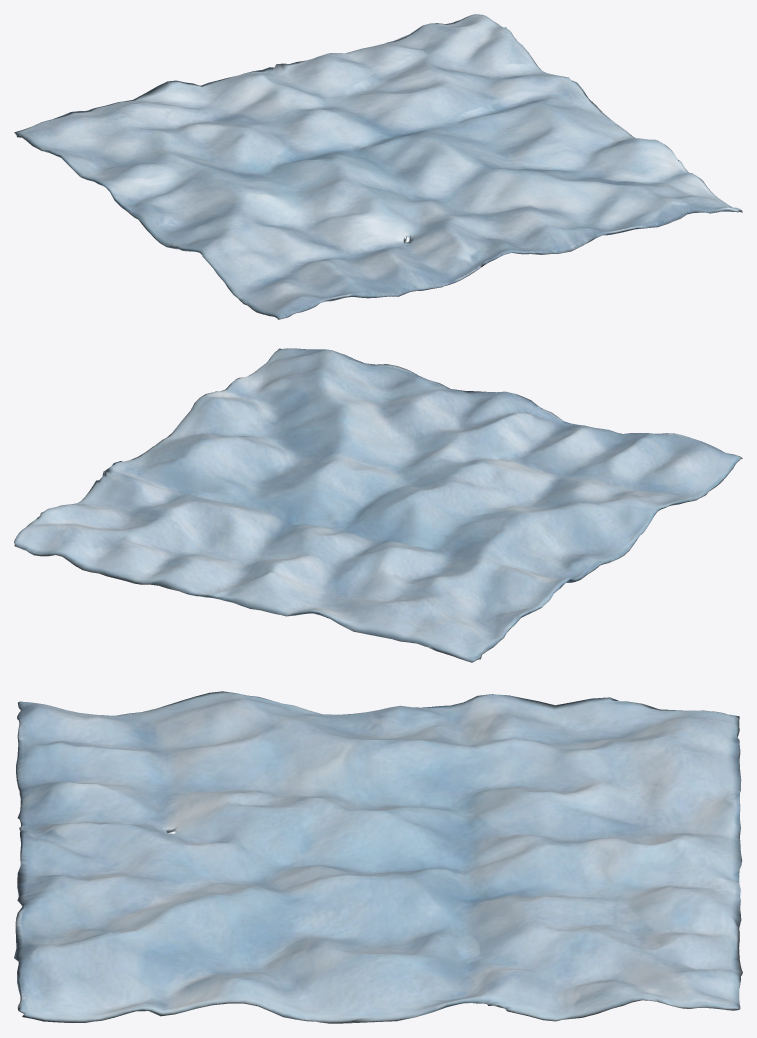
Rendered from snow.glb.
3 renders of one model, top to bottom at view 1: azimuth 30°, elevation 25°; view 2: azimuth 150°, elevation 25°; view 3: azimuth 270°, elevation 25°, orthographic. The views are drawn at different scales.
Size of the model in its own units: 2.01 by 0.1198 by 2.01.
1 material, 1 textured.
